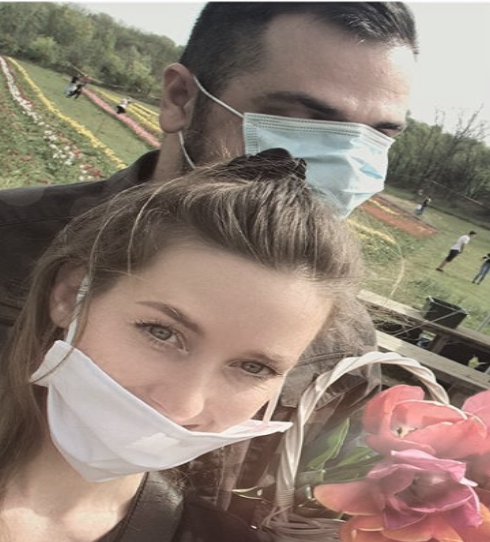mask_weared_incorrect: (36, 190, 336, 482), (159, 2, 427, 224)
